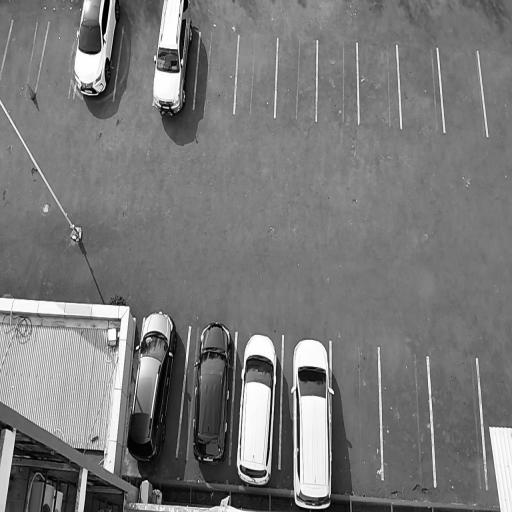Car: (124, 309, 180, 466), (291, 332, 332, 511), (234, 326, 279, 487), (189, 317, 234, 466), (149, 0, 197, 122), (71, 0, 123, 104)
Space Available: (429, 356, 486, 490), (381, 347, 434, 484), (332, 341, 382, 476), (438, 45, 485, 136), (397, 43, 444, 133), (357, 41, 402, 128), (193, 31, 239, 112), (275, 37, 317, 120), (235, 36, 278, 116), (0, 18, 49, 87), (318, 38, 358, 121), (36, 20, 78, 93), (478, 49, 512, 138), (115, 29, 155, 99), (478, 359, 512, 427)
